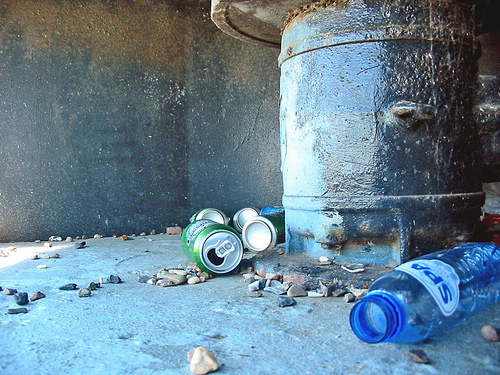litter: (347, 241, 500, 343), (179, 218, 244, 273), (241, 215, 286, 249), (188, 206, 280, 218)
